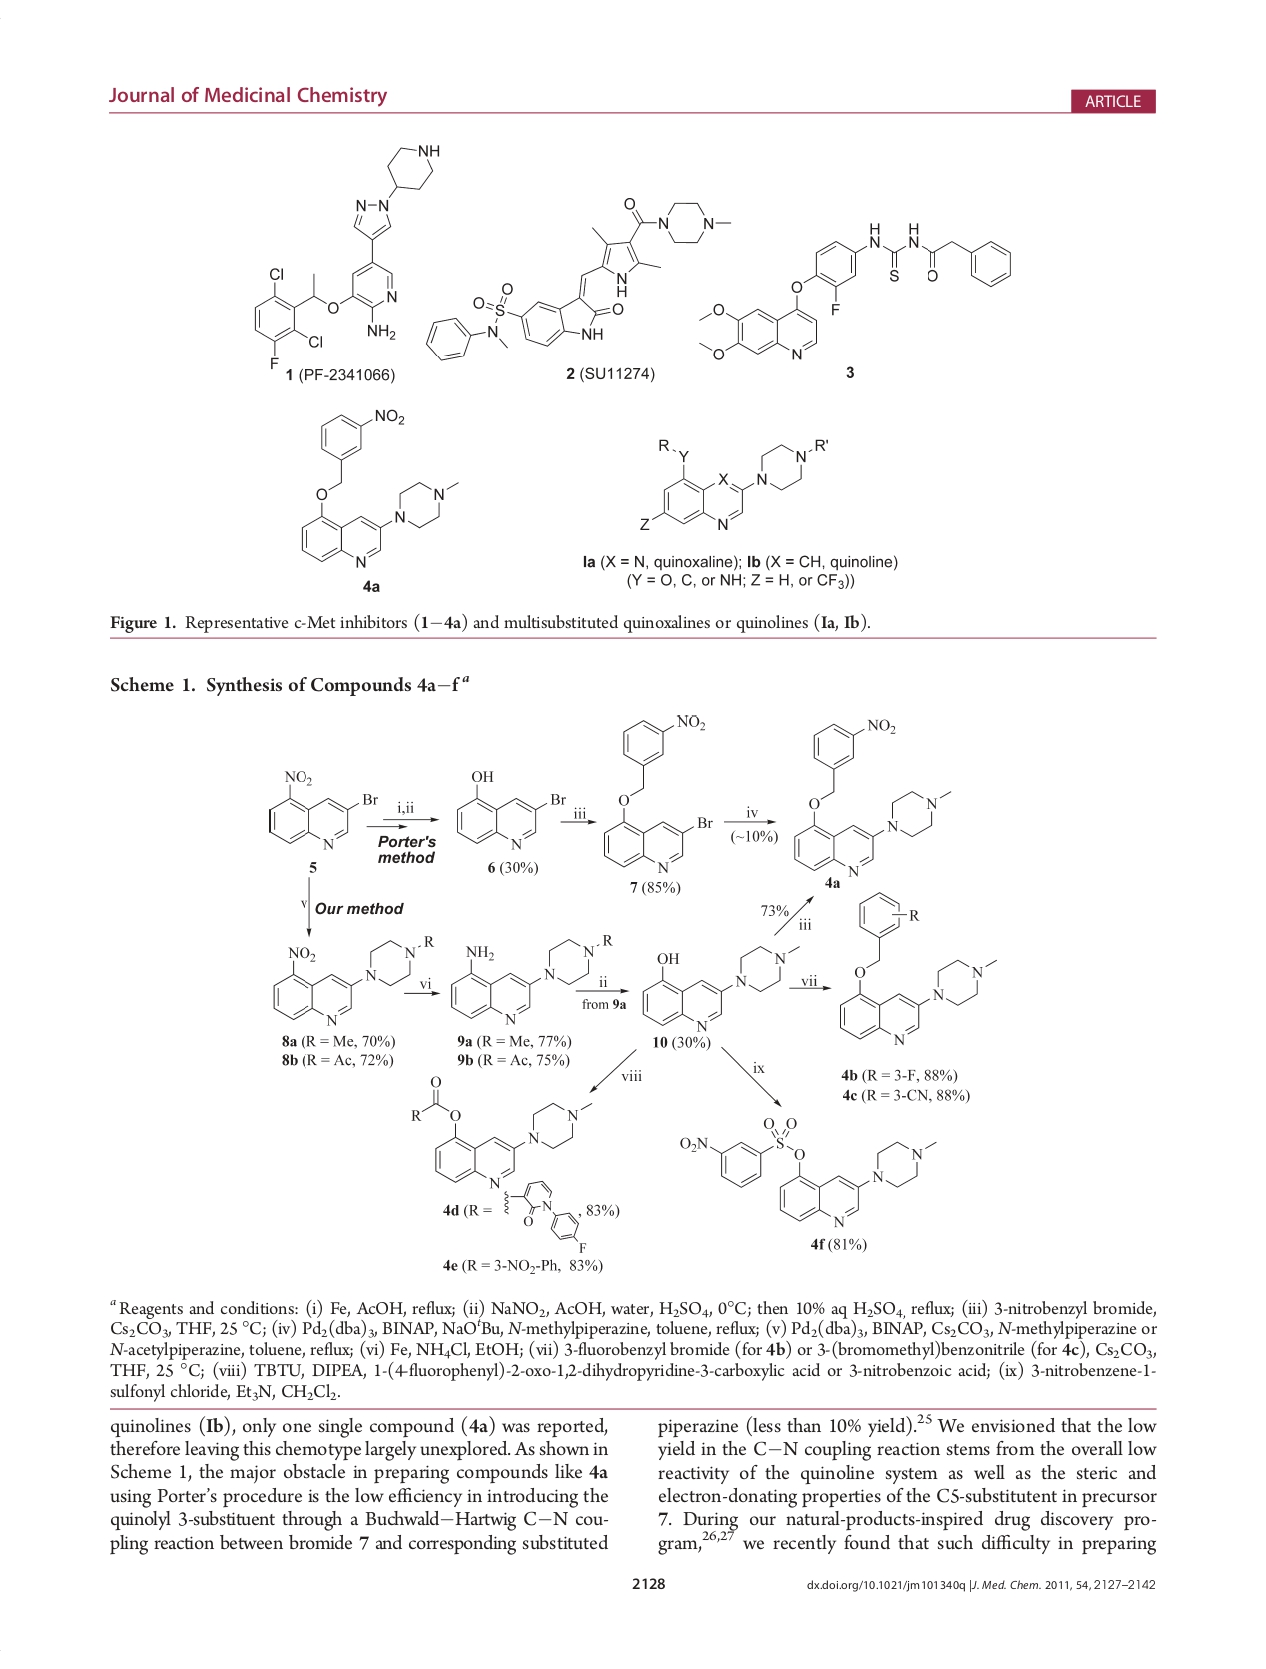exist_molecular: (424, 195, 735, 362), (696, 218, 1016, 363), (243, 141, 442, 370), (410, 1075, 596, 1257), (676, 1113, 942, 1227), (297, 402, 461, 569), (789, 714, 953, 878), (836, 886, 999, 1047), (632, 430, 830, 532), (597, 707, 718, 875), (269, 932, 435, 1029), (445, 932, 616, 1027), (636, 942, 806, 1035), (261, 761, 380, 856), (452, 761, 569, 851)
